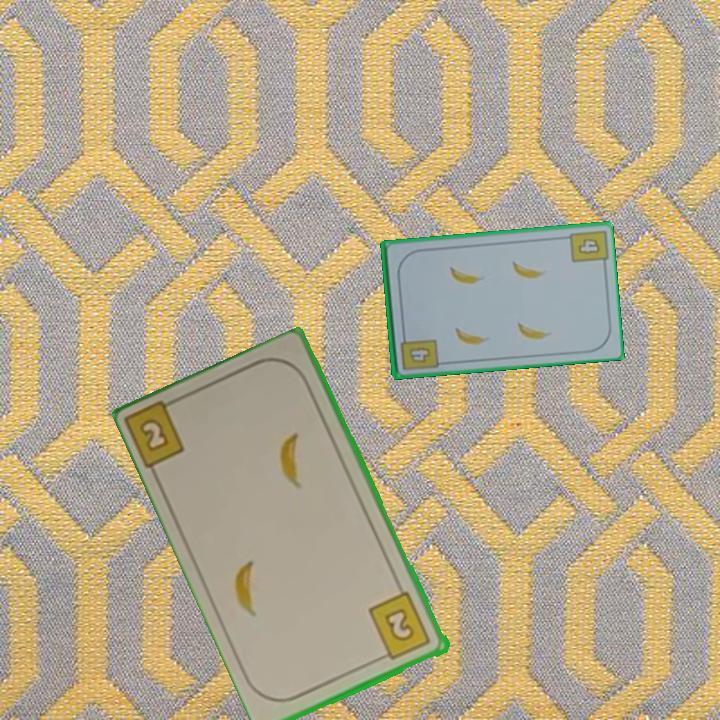2b: (365, 588, 434, 664), (124, 393, 188, 473)
4b: (396, 329, 440, 373), (575, 234, 603, 257)
